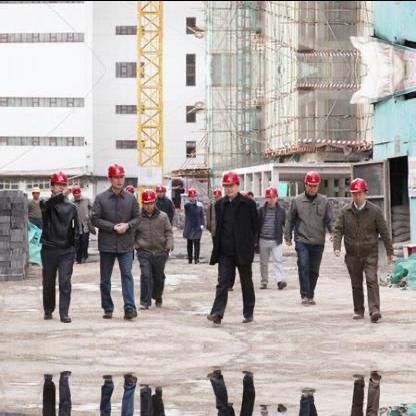Helmet: (46, 168, 70, 198), (104, 162, 126, 192), (348, 176, 370, 204), (300, 168, 322, 194), (220, 170, 240, 198), (139, 186, 155, 210), (262, 183, 278, 205), (70, 181, 82, 201), (209, 184, 221, 202), (186, 184, 198, 200), (29, 184, 41, 198), (154, 183, 164, 197)
